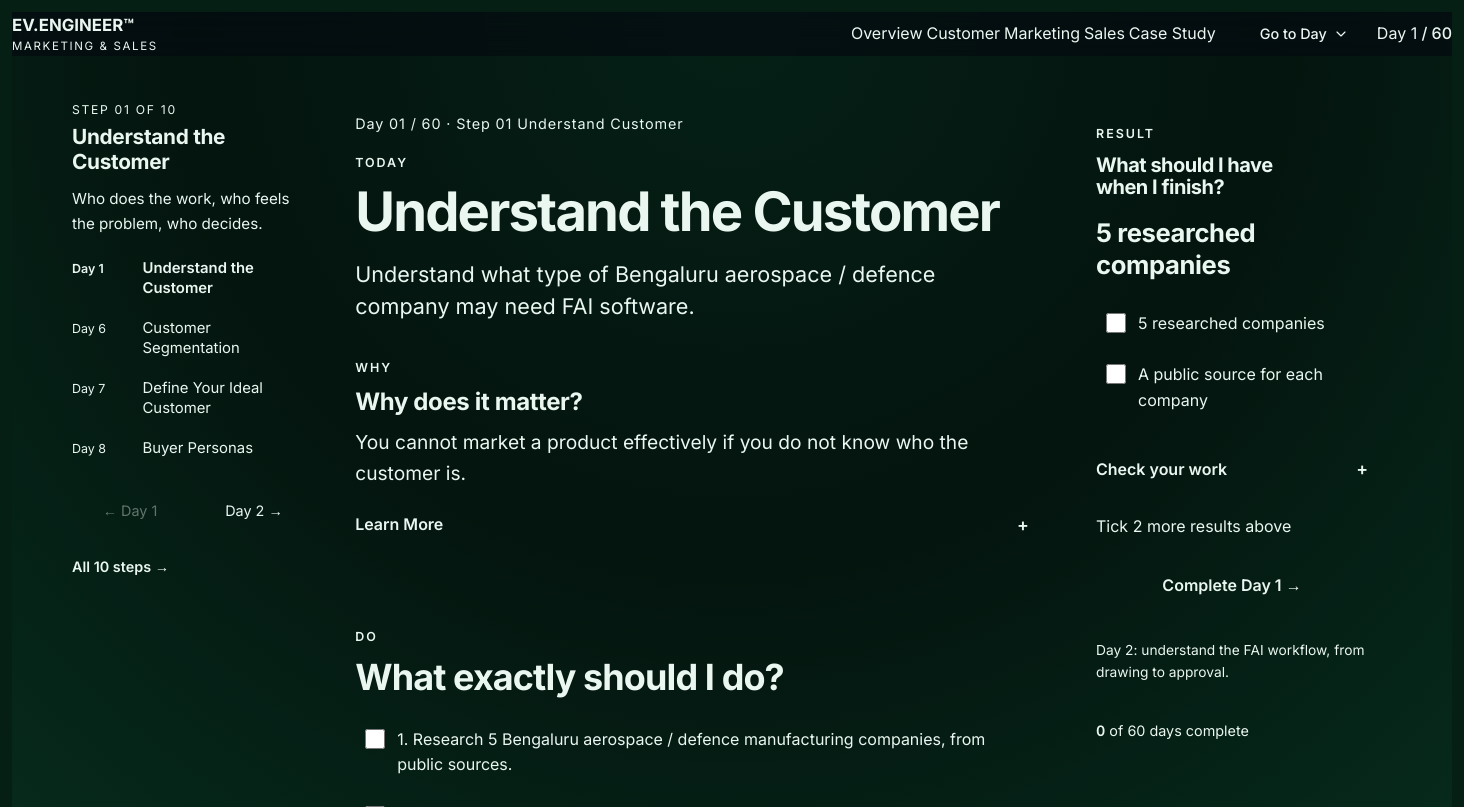
Test: Today: the step, mentor checks and navigation › shows the day's step and only that step's days — never the sixty
The width and height of the screenshot is (1464, 807).
Expected: the navigation bar named "This step" shows "Step 01 of 10", [72,100,312,588]
Expected: the navigation bar named "This step" shows "Understand the Customer", [72,124,225,174]
What coordinates should you click on to do the following:
click the button "Day 6 Customer Segmentation"
I would click on:
 (192, 338)
Its box is [72,308,312,368].
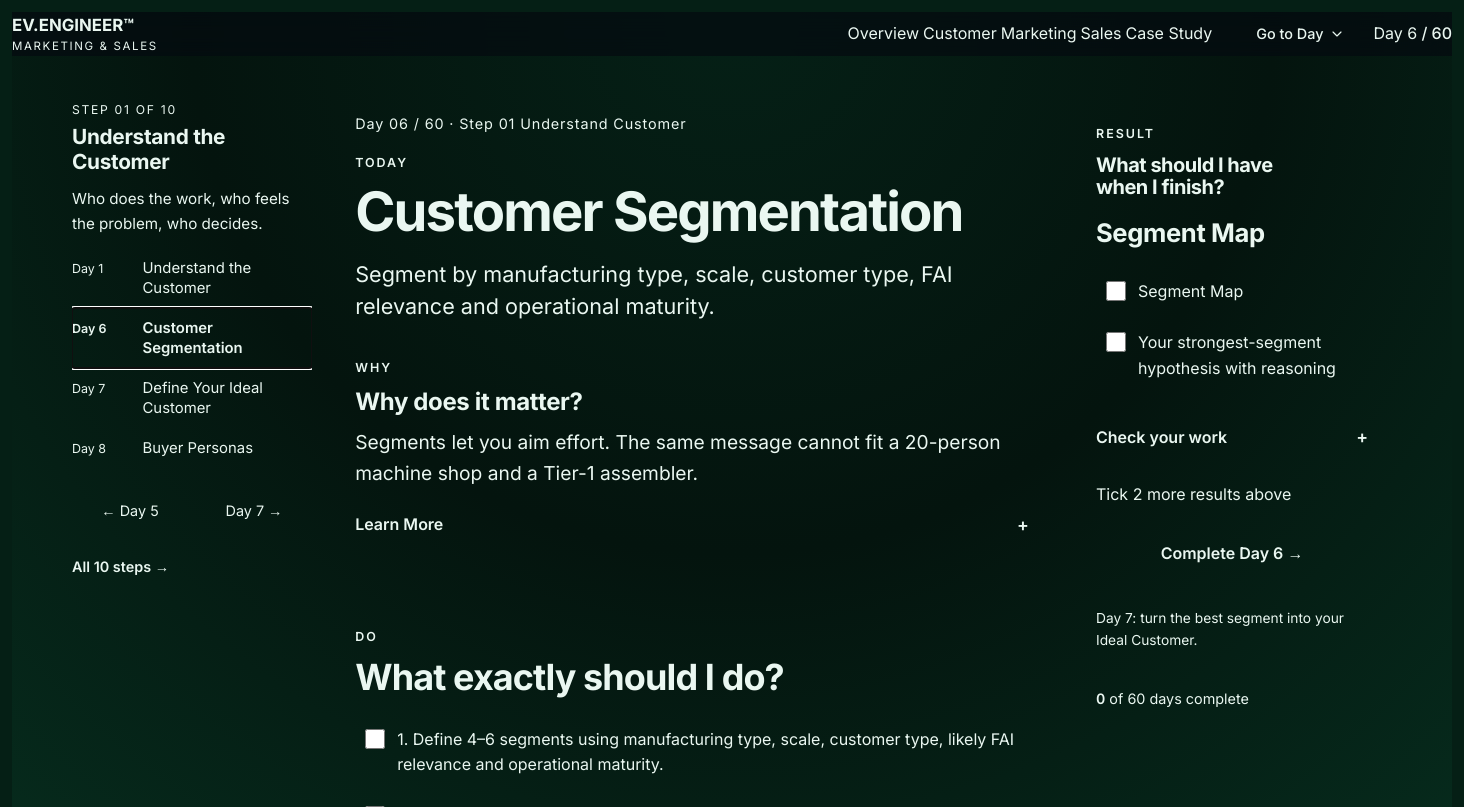
Expected: the heading "Customer Segmentation" is shown, [355,183,1029,240]
